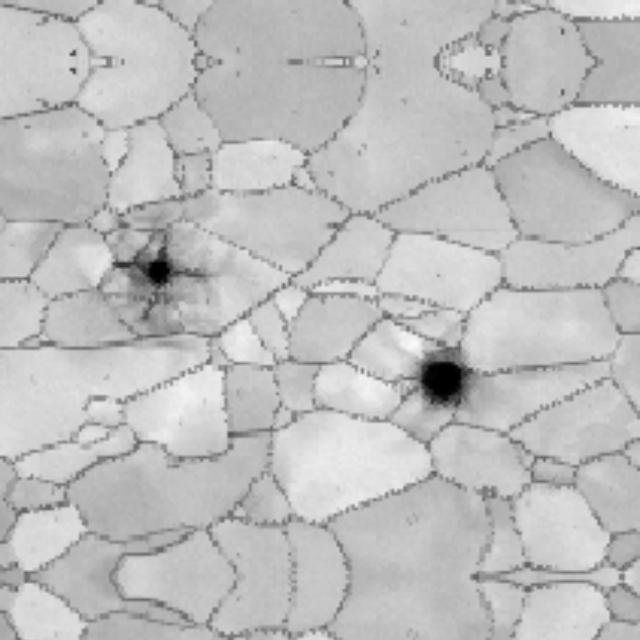good_void: (109, 219, 219, 329), (407, 351, 477, 415), (66, 66, 79, 79), (66, 46, 79, 59), (557, 88, 568, 100), (557, 25, 568, 37)
